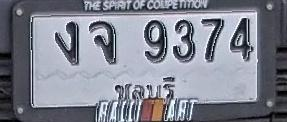3: (173, 19, 195, 62)
4: (230, 17, 252, 61)
7: (201, 18, 224, 62)
9: (144, 19, 167, 62)
A07: (55, 21, 79, 65)
A08: (89, 20, 117, 64)
CBI: (109, 74, 177, 100)
